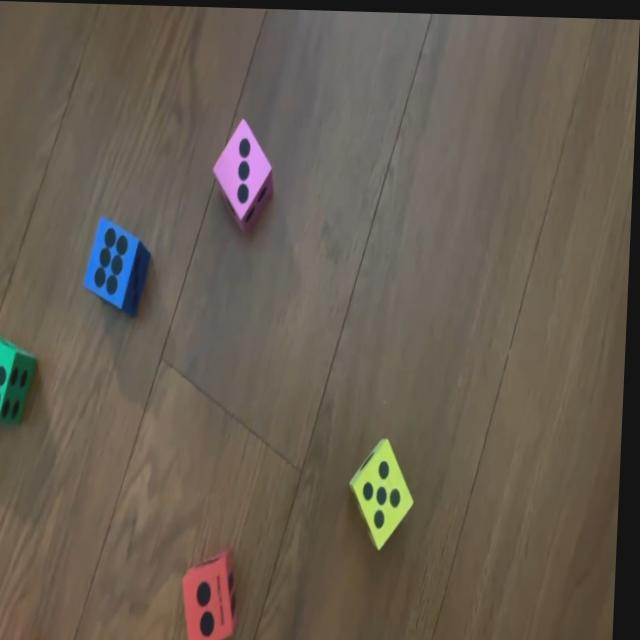blue_block: (84, 212, 152, 315)
red_block: (187, 545, 249, 640)
